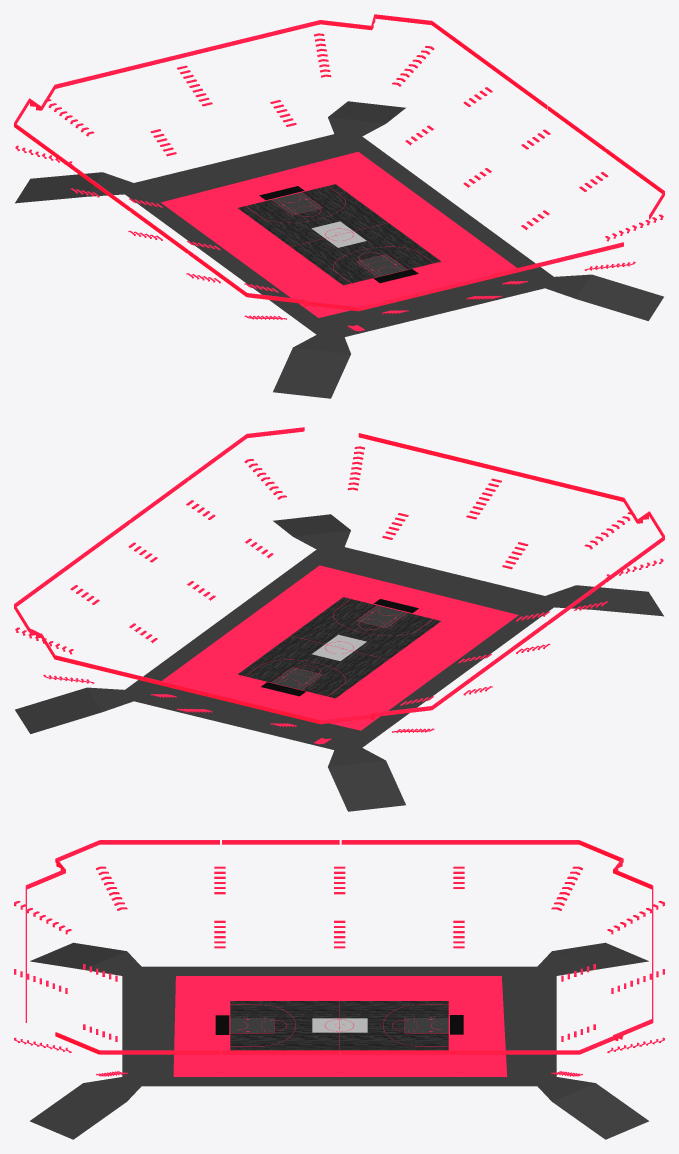
The model's file is CombinedMesh-MeshBaker (3)-mesh.fbx.
3 views of the same model, one above another, from view 1: azimuth 30°, elevation 25°; view 2: azimuth 150°, elevation 25°; view 3: azimuth 270°, elevation 25° (orthographic). The views are drawn at different scales.
Visible parts, largest first — view 1: MeshBaker__3__mesh_mesh; view 2: MeshBaker__3__mesh_mesh; view 3: MeshBaker__3__mesh_mesh.
Boxes of the visible parts, left/top/right/bottom form: MeshBaker__3__mesh_mesh: left=14, top=14, right=664, bottom=398; MeshBaker__3__mesh_mesh: left=14, top=427, right=664, bottom=811; MeshBaker__3__mesh_mesh: left=14, top=840, right=664, bottom=1139.
Size of the model in its own units: 6667 by 1414 by 8709.
